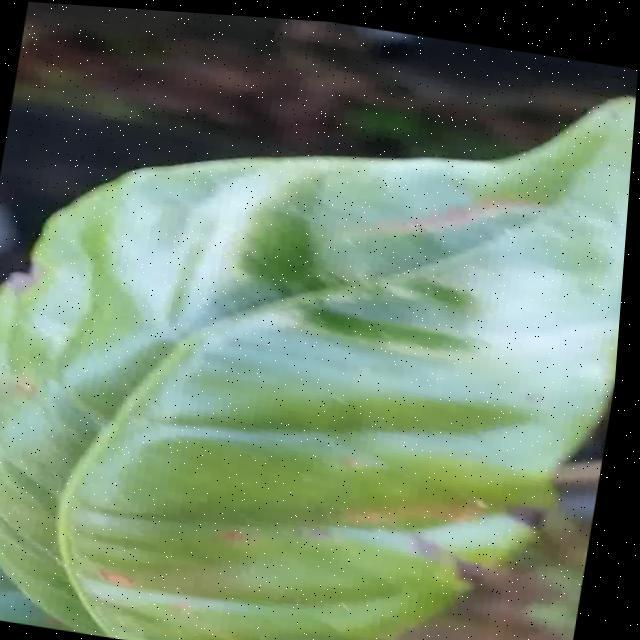leaves: (0, 102, 630, 640)
